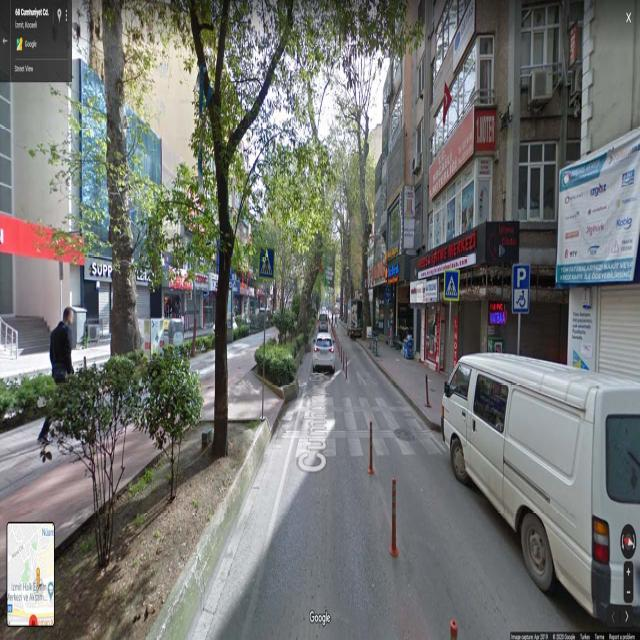park: (511, 266, 529, 290)
